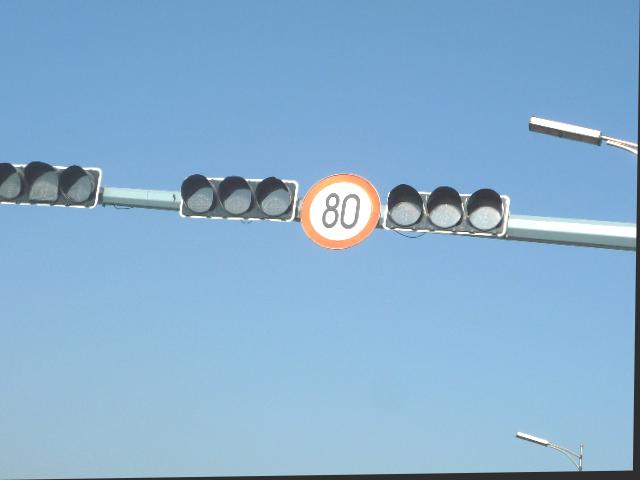limit80: (296, 165, 384, 252)
